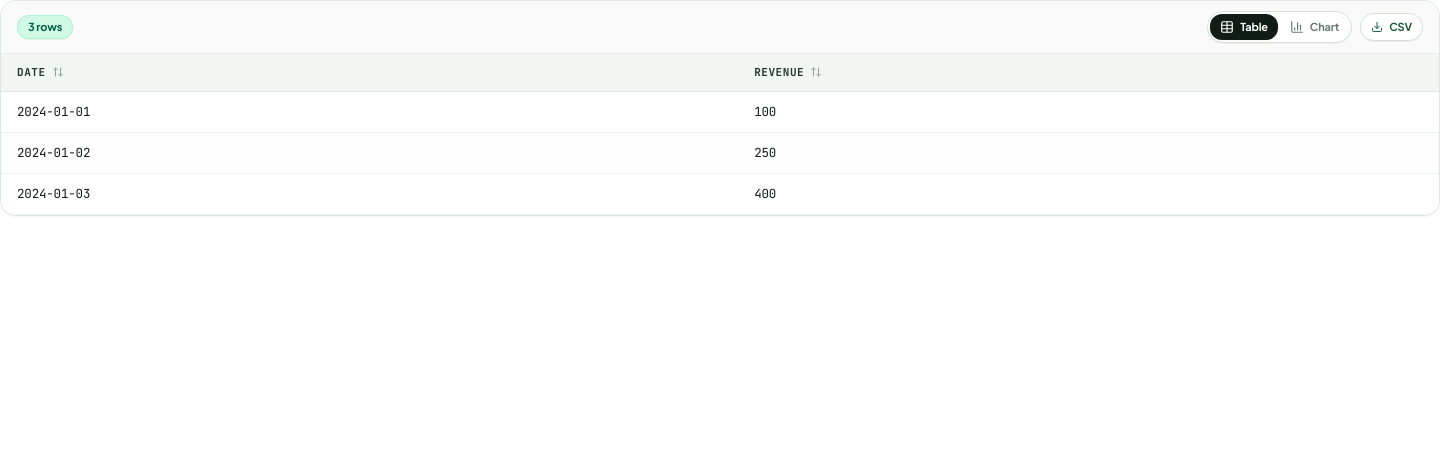
Test: DataVisualizer Component › switches between Table and Chart views when toggle buttons are clicked
expect the table is shown: met, box [1, 54, 1439, 215]
Click Chart button
Click the button "Chart" at (1315, 27), box [1280, 14, 1349, 40]
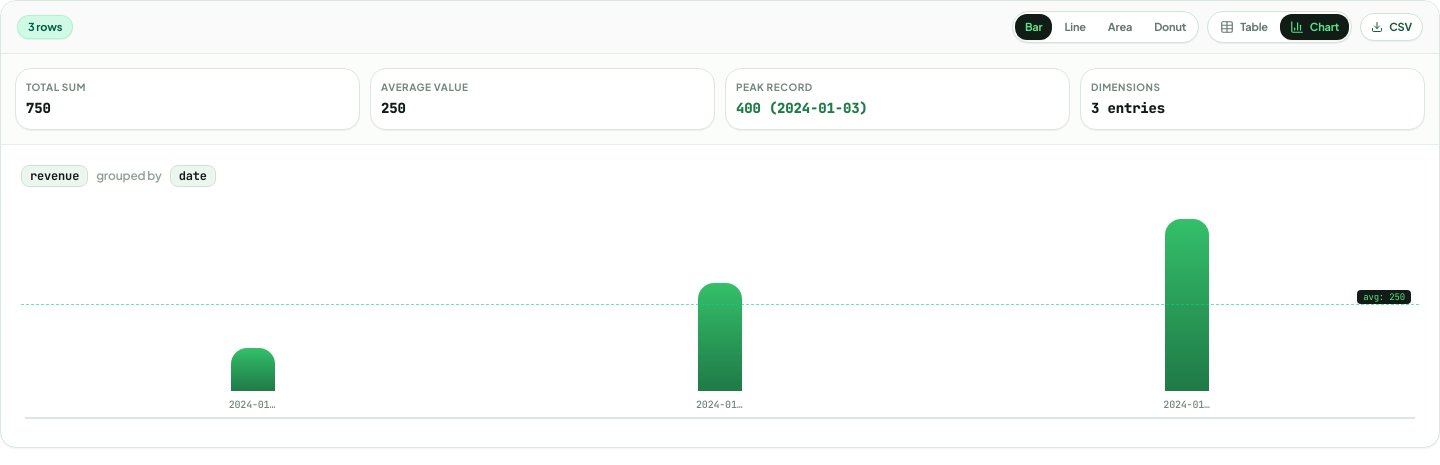
expect the 1st icon is shown: met, box [1220, 20, 1234, 34]
expect the table is gone: met
Click Table button
Click the button "Table" at (1244, 27), box [1210, 14, 1278, 40]
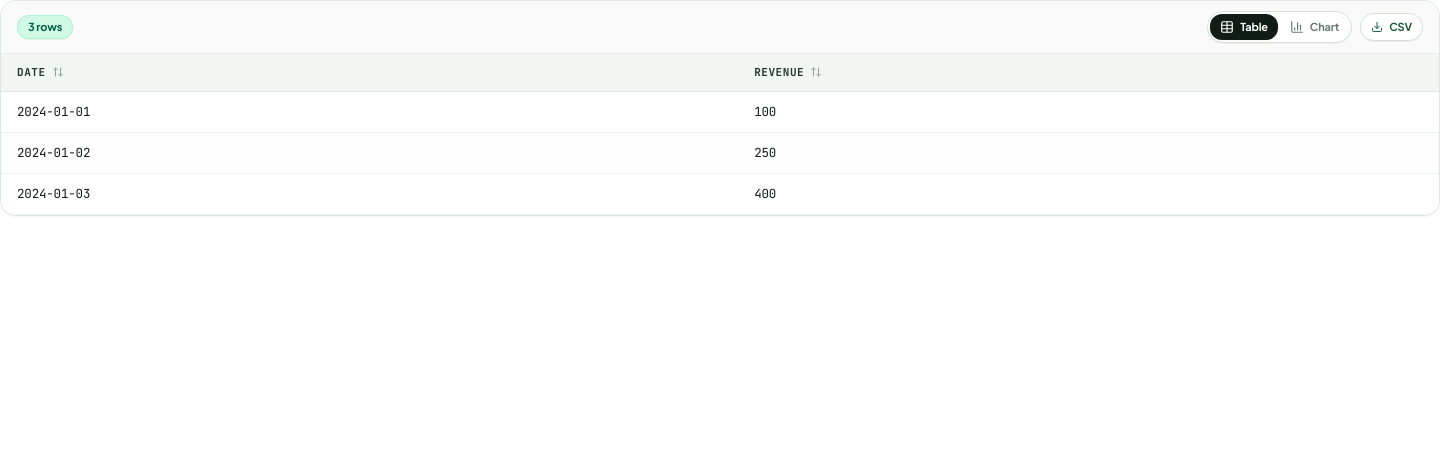
expect the table is shown: met, box [1, 54, 1439, 215]
